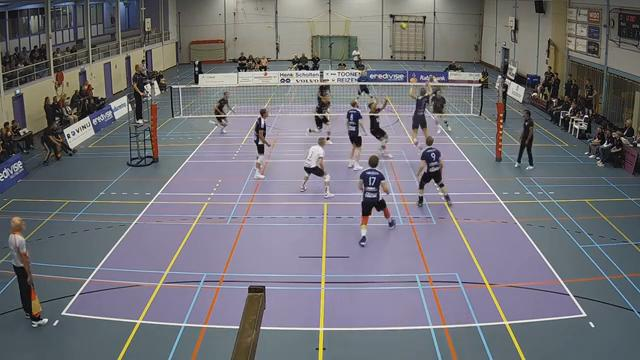attacco: (406, 75, 438, 152)
